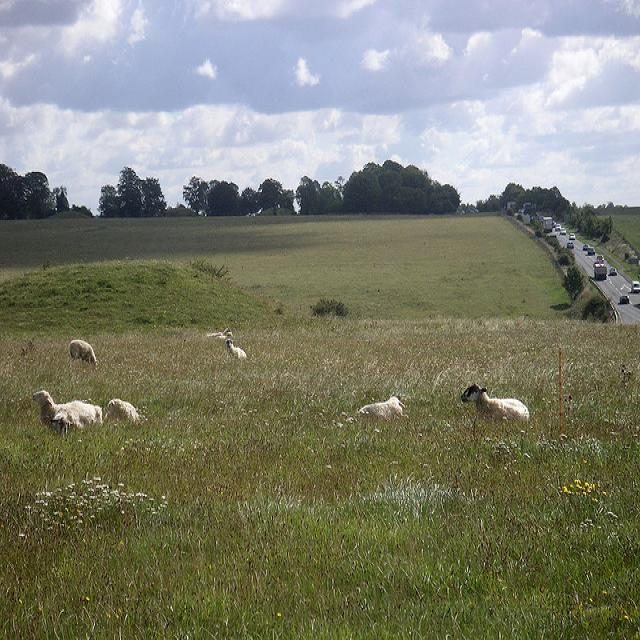Vehicle: (593, 261, 607, 280), (542, 216, 552, 234), (518, 202, 531, 215), (630, 281, 640, 292), (620, 295, 630, 304), (566, 241, 575, 250), (610, 267, 618, 276), (596, 255, 604, 263), (588, 246, 595, 255), (560, 227, 567, 234), (588, 249, 596, 255), (569, 233, 575, 240), (583, 244, 589, 251), (554, 224, 560, 230), (552, 221, 556, 228), (539, 216, 543, 222)
